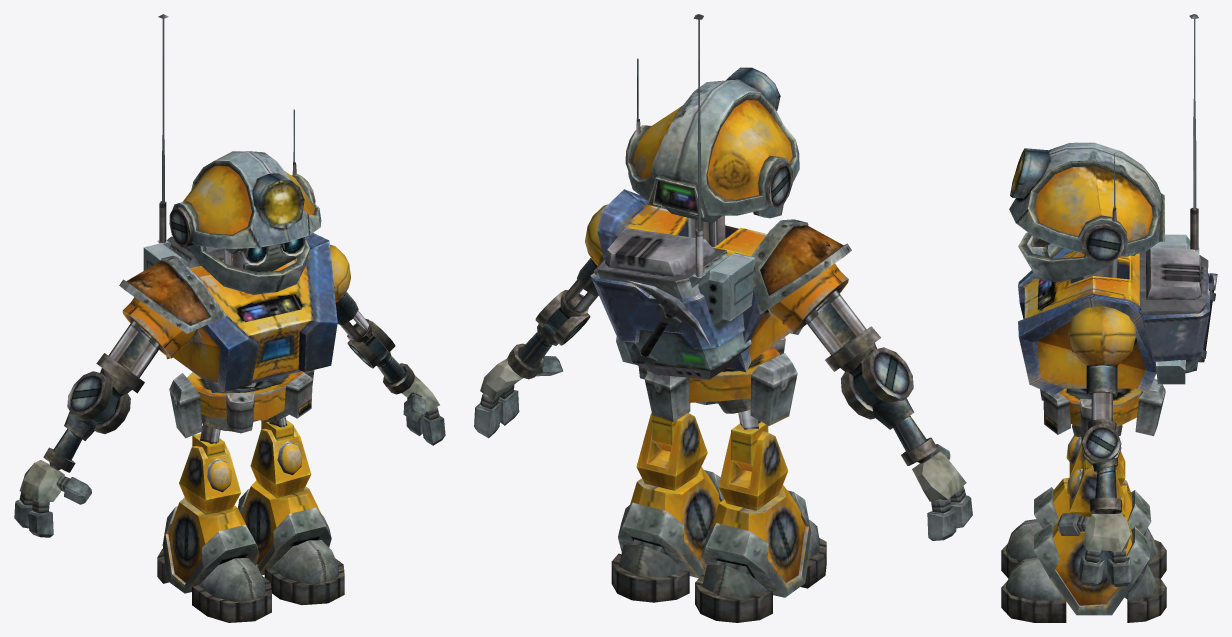
The model's file is TestUnit.gltf.
3 views of the same model, side by side, from view 1: azimuth 30°, elevation 25°; view 2: azimuth 150°, elevation 25°; view 3: azimuth 270°, elevation 25° (orthographic). The views are drawn at different scales.
Parts seen in each view (by area): view 1: glitch_2; view 2: glitch_2; view 3: glitch_2.
Boxes of the visible parts, bbox=[...] form: glitch_2: bbox=[14, 14, 445, 622]; glitch_2: bbox=[474, 14, 972, 622]; glitch_2: bbox=[1001, 14, 1217, 622].
Size of the model in its own units: 4.74 by 5.9 by 2.08.
Materials: 1 (1 with a texture image).
